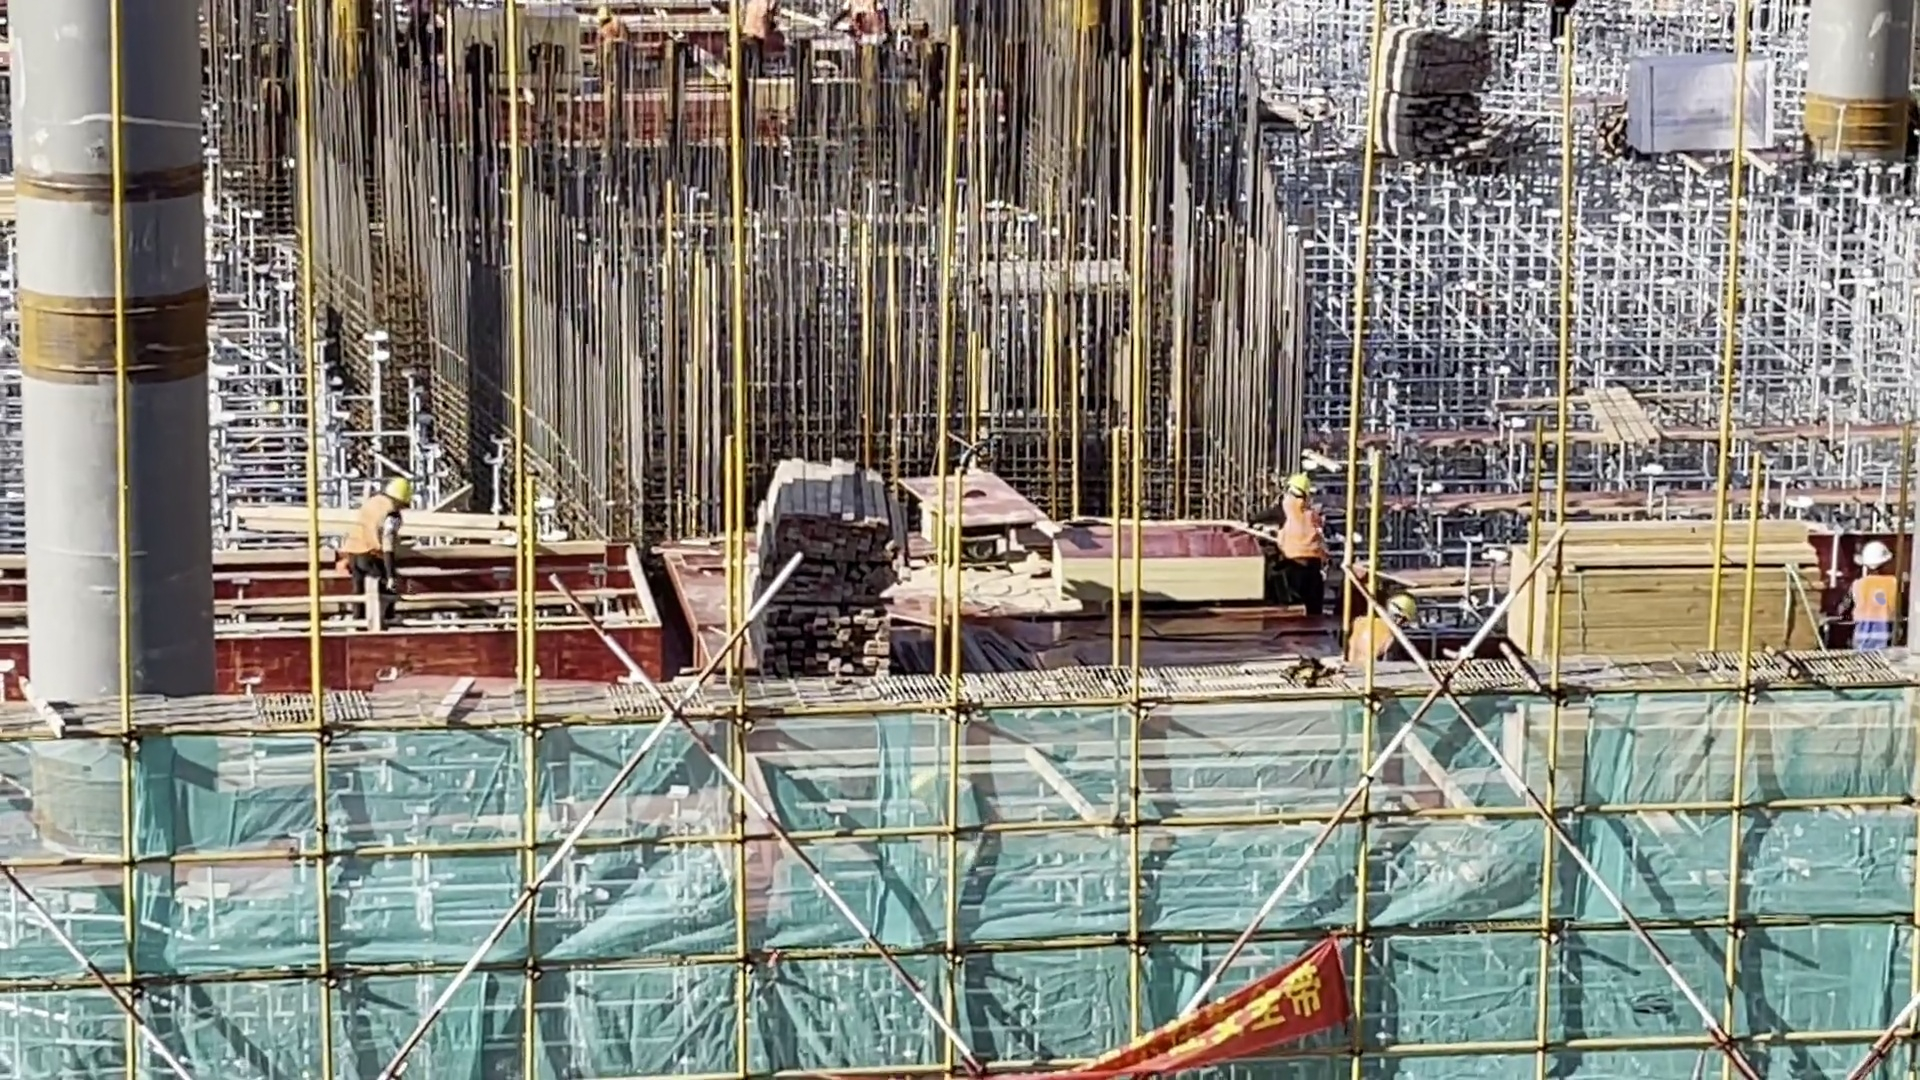helmet: (380, 463, 410, 512), (1854, 535, 1895, 571), (1386, 586, 1419, 623), (1282, 465, 1312, 498)
person: (1262, 448, 1345, 632), (333, 467, 412, 637), (1836, 542, 1903, 674), (1341, 591, 1422, 669)
vest: (1847, 567, 1917, 664), (1277, 490, 1340, 569), (341, 495, 406, 563), (1344, 612, 1406, 667)
